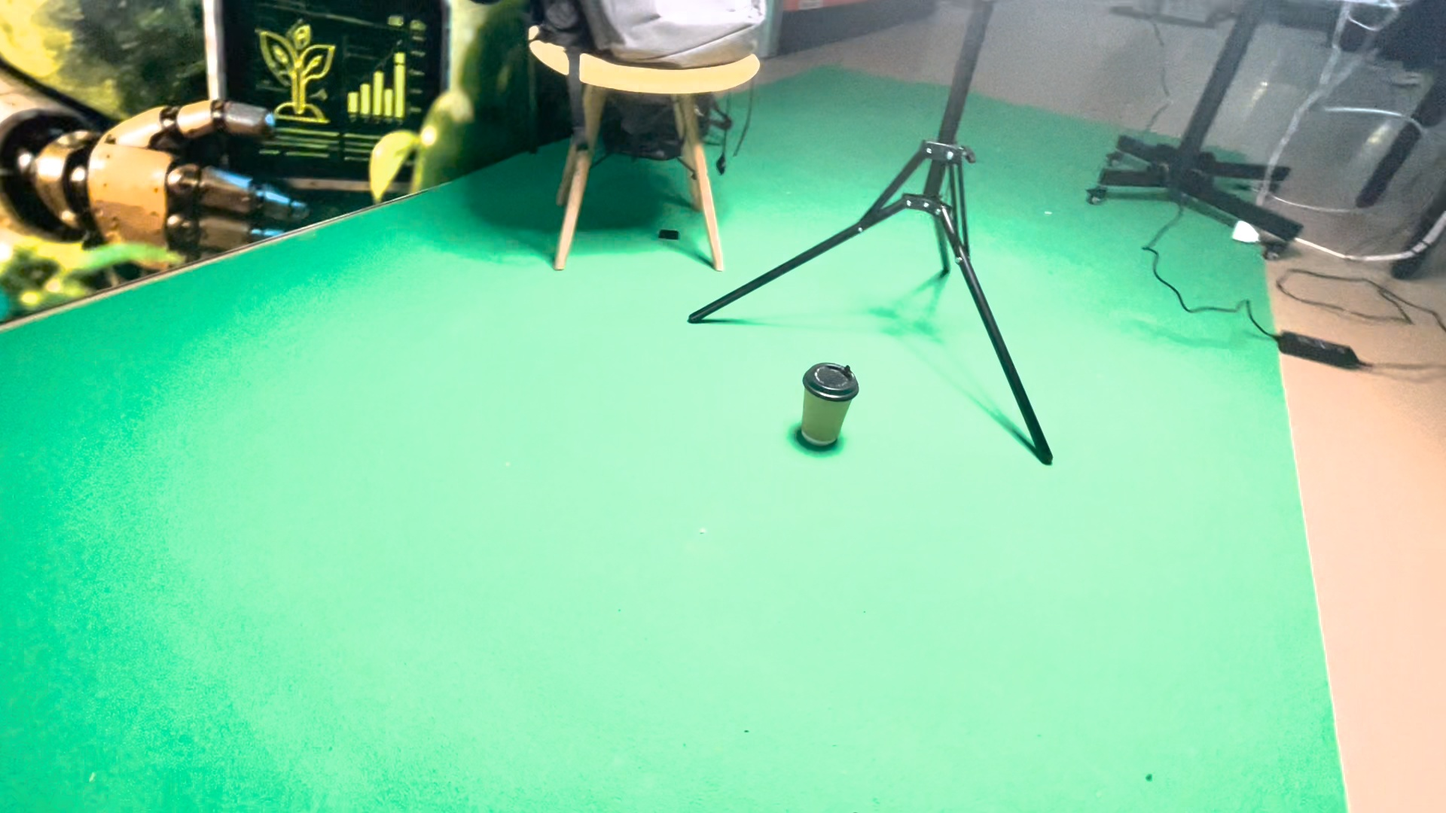cup: (688, 431, 812, 604)
